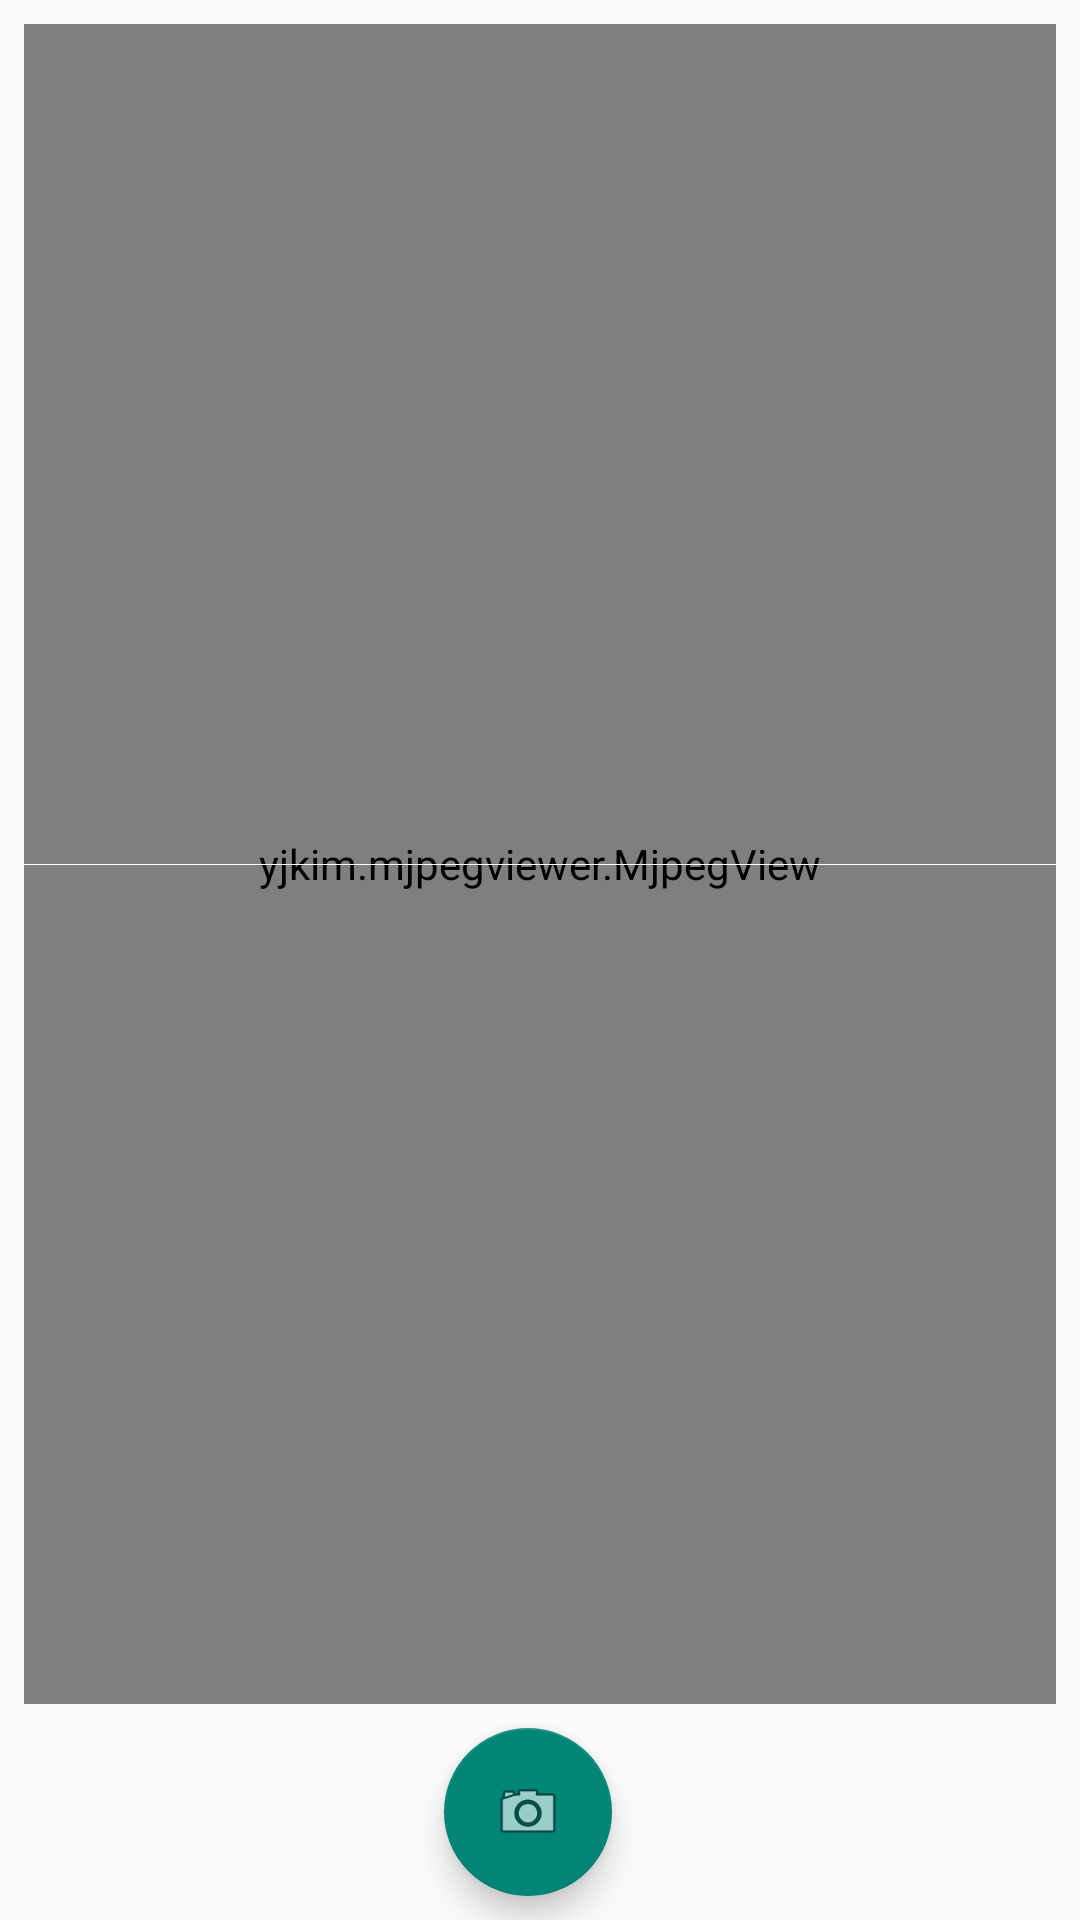

Screen size 1080 x 1920. Icon name, then its center in pixels as (x=x, y=y):
camera: (x=528, y=1812)
